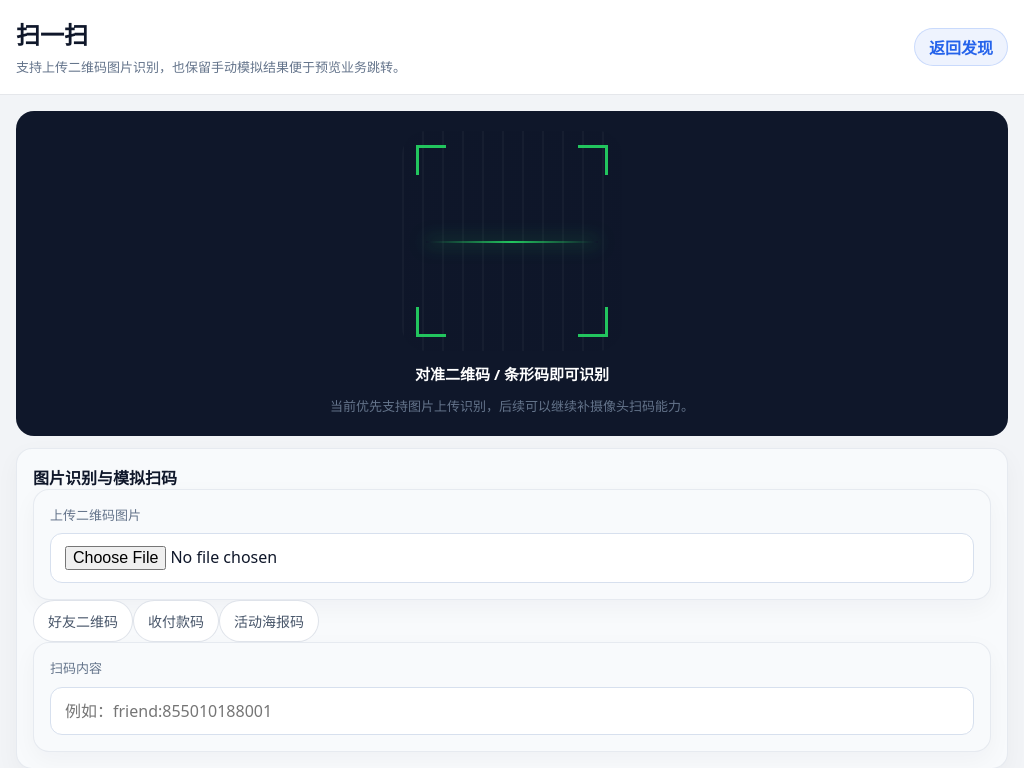
Scenario: App route entry › simulates scan result routing
Click the button "收付款码". click: coordinates (176, 621)
box: [133, 600, 219, 642]
(page scrolled)
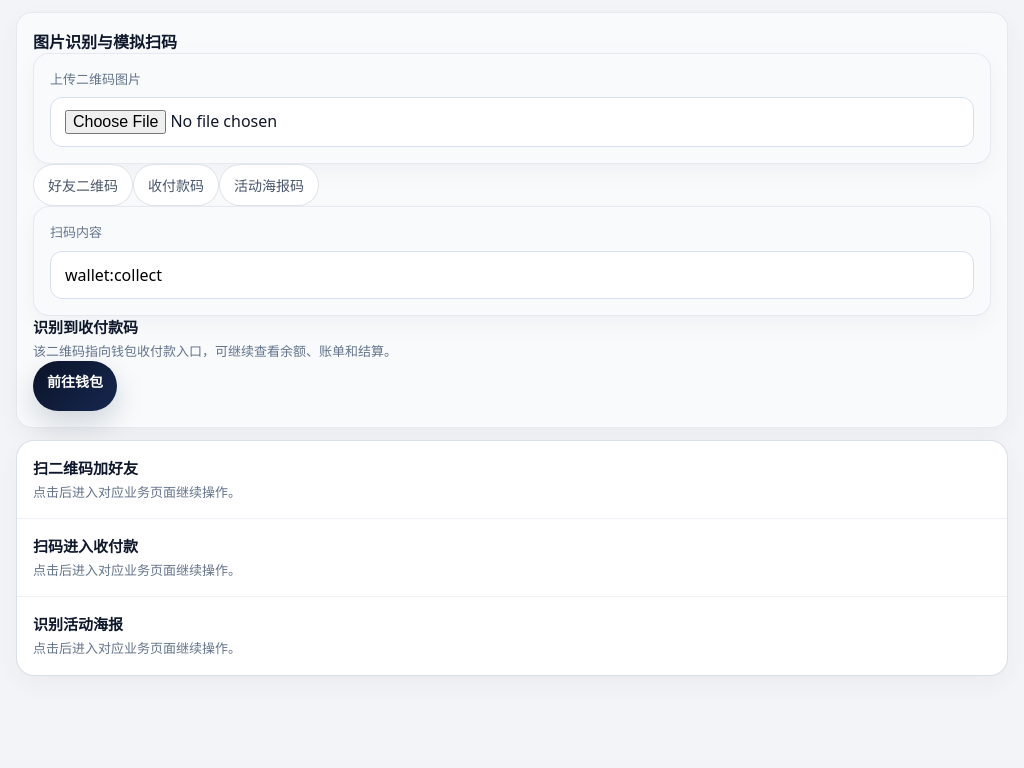
Expected: the text "识别到收付款码" is shown, [33, 317, 138, 337]
